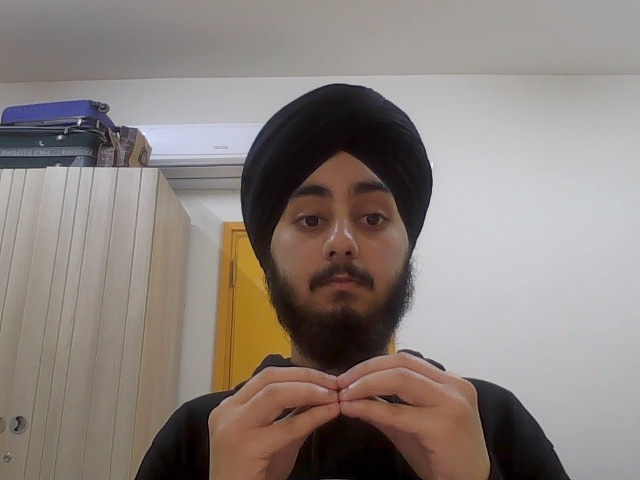More: (202, 350, 495, 480)
